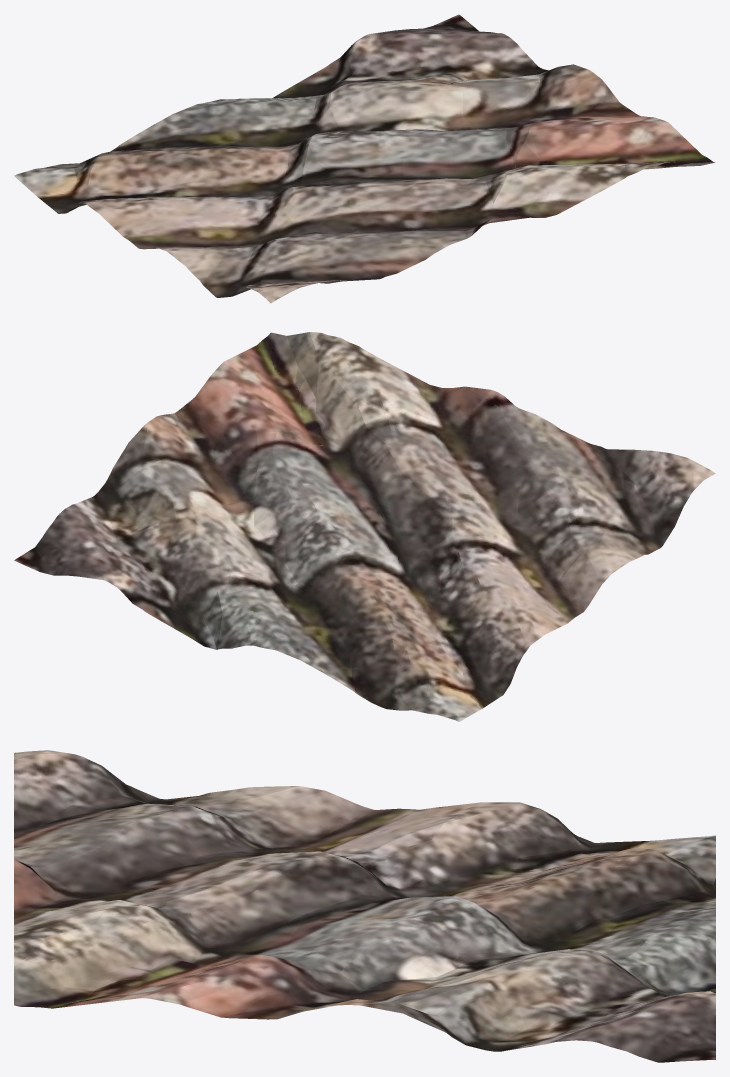
3 renders of one model, top to bottom at view 1: azimuth 30°, elevation 25°; view 2: azimuth 150°, elevation 25°; view 3: azimuth 270°, elevation 25°, orthographic. The views are drawn at different scales.
Size of the model in its own units: 0.8374 by 0.1986 by 0.8374.
Materials: 3 (3 with a texture image).
